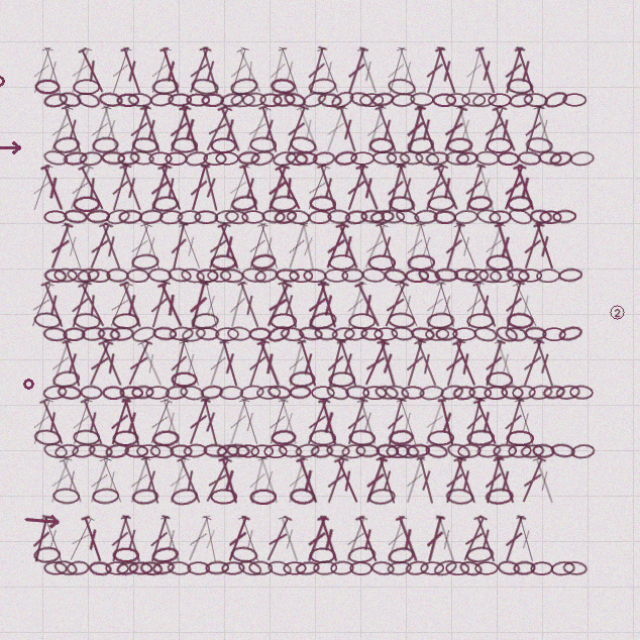chain: (230, 79, 260, 100), (288, 137, 318, 158), (308, 311, 338, 332), (329, 91, 356, 114), (191, 80, 221, 100), (386, 80, 416, 100), (405, 138, 434, 158), (171, 486, 200, 506), (152, 544, 181, 564), (386, 544, 415, 564), (301, 92, 328, 113), (540, 92, 567, 113), (505, 208, 532, 229), (431, 556, 458, 577), (308, 80, 337, 99), (54, 370, 83, 389), (347, 544, 376, 563), (464, 544, 493, 563), (266, 324, 292, 345), (77, 93, 104, 113), (393, 209, 420, 229), (132, 325, 159, 345), (444, 441, 471, 461), (237, 557, 264, 577), (55, 138, 83, 157), (231, 196, 259, 215), (250, 254, 278, 273), (36, 312, 64, 331), (36, 428, 64, 447), (231, 544, 259, 563), (444, 487, 473, 505), (282, 93, 308, 113), (415, 267, 441, 287), (492, 325, 518, 345), (133, 139, 161, 157), (523, 139, 551, 157), (153, 197, 181, 215), (387, 197, 415, 215), (75, 313, 103, 331), (192, 313, 220, 331), (153, 429, 181, 447), (133, 487, 161, 505), (367, 487, 395, 505), (348, 93, 374, 112), (45, 151, 71, 170), (250, 151, 276, 170), (107, 209, 133, 228), (555, 325, 581, 344), (45, 441, 71, 460), (55, 557, 81, 576), (425, 313, 454, 330), (483, 487, 512, 504), (153, 81, 181, 98), (504, 81, 532, 98), (270, 197, 298, 214), (426, 197, 454, 214), (133, 255, 161, 272), (504, 313, 532, 330), (465, 429, 493, 446), (60, 93, 85, 112), (325, 383, 350, 402), (438, 383, 463, 402), (45, 94, 71, 112), (220, 94, 246, 112), (470, 94, 496, 112), (506, 94, 532, 112), (272, 152, 298, 170), (413, 152, 439, 170), (68, 268, 94, 286), (181, 268, 207, 286), (254, 268, 280, 286), (182, 326, 208, 344), (471, 326, 497, 344), (180, 384, 206, 402), (373, 384, 399, 402), (383, 384, 409, 402), (56, 442, 82, 460), (267, 558, 293, 576), (270, 81, 297, 98), (94, 139, 121, 156), (250, 139, 277, 156), (309, 197, 336, 214), (465, 197, 492, 214), (387, 313, 414, 330), (289, 371, 316, 388), (75, 429, 102, 446), (309, 429, 336, 446), (348, 429, 375, 446), (387, 429, 414, 446), (55, 487, 82, 504), (94, 487, 121, 504), (289, 487, 316, 504), (36, 545, 63, 562), (185, 152, 210, 170), (546, 152, 571, 170), (382, 268, 407, 286), (502, 326, 527, 344), (423, 442, 448, 460), (117, 558, 142, 576), (457, 558, 482, 576), (367, 256, 395, 272), (406, 256, 434, 272), (465, 314, 493, 330), (504, 430, 532, 446), (505, 197, 531, 214), (474, 210, 500, 227), (168, 268, 194, 285), (271, 429, 297, 446), (73, 442, 99, 459), (106, 442, 132, 459), (75, 82, 102, 98), (172, 140, 199, 156), (211, 140, 238, 156), (445, 140, 472, 156), (484, 140, 511, 156), (75, 198, 102, 214), (211, 256, 238, 272), (328, 256, 355, 272), (484, 256, 511, 272), (114, 314, 141, 330), (270, 314, 297, 330), (348, 314, 375, 330), (172, 372, 199, 388), (328, 372, 355, 388), (484, 372, 511, 388), (114, 430, 141, 446), (426, 430, 453, 446), (211, 488, 238, 504), (250, 488, 277, 504), (114, 546, 141, 562), (309, 546, 336, 562), (100, 94, 125, 111), (151, 94, 176, 111), (370, 94, 395, 111), (131, 152, 156, 169), (333, 152, 358, 169), (65, 210, 90, 227), (140, 210, 165, 227), (273, 210, 298, 227), (78, 268, 103, 285), (242, 268, 267, 285), (361, 268, 386, 285), (298, 326, 323, 343), (343, 326, 368, 343), (389, 326, 414, 343), (45, 384, 70, 401), (59, 384, 84, 401), (240, 384, 265, 401), (267, 384, 292, 401), (526, 384, 551, 401), (553, 384, 578, 401), (90, 442, 115, 459), (278, 442, 303, 459), (295, 442, 320, 459), (475, 442, 500, 459), (548, 442, 573, 459), (37, 82, 63, 98), (368, 140, 394, 156), (527, 210, 551, 227), (504, 268, 528, 285), (166, 384, 190, 401), (201, 384, 225, 401), (540, 384, 564, 401), (153, 558, 177, 575), (404, 558, 428, 575), (495, 558, 519, 575), (129, 95, 154, 111), (231, 95, 256, 111), (317, 95, 342, 111), (390, 95, 415, 111), (444, 95, 469, 111), (521, 95, 546, 111), (65, 153, 90, 169), (385, 153, 410, 169), (424, 153, 449, 169), (515, 153, 540, 169), (567, 153, 592, 169), (160, 211, 185, 227), (178, 211, 203, 227), (215, 211, 240, 227), (225, 211, 250, 227), (286, 211, 311, 227), (369, 211, 394, 227), (452, 211, 477, 227), (220, 269, 245, 285), (275, 269, 300, 285), (463, 269, 488, 285), (476, 269, 501, 285), (45, 327, 70, 343), (280, 327, 305, 343), (409, 327, 434, 343), (418, 385, 443, 401), (151, 443, 176, 459), (341, 443, 366, 459), (394, 443, 419, 459), (518, 443, 543, 459), (568, 443, 593, 459), (168, 559, 193, 575), (295, 559, 320, 575), (386, 559, 411, 575), (548, 559, 573, 575), (560, 559, 585, 575), (81, 153, 105, 169), (285, 153, 309, 169), (312, 153, 336, 169), (454, 153, 478, 169), (344, 211, 368, 227), (46, 269, 70, 285), (99, 327, 123, 343), (331, 327, 355, 343), (451, 385, 475, 401), (217, 443, 241, 459), (310, 443, 334, 459), (90, 559, 114, 575), (141, 559, 165, 575), (370, 559, 394, 575), (398, 153, 423, 168), (149, 269, 174, 284), (452, 269, 477, 284), (83, 327, 108, 342), (111, 327, 136, 342), (170, 327, 195, 342), (196, 327, 221, 342), (184, 443, 209, 458), (226, 443, 251, 458), (243, 95, 267, 110), (409, 95, 433, 110), (460, 95, 484, 110), (103, 153, 127, 168), (372, 153, 396, 168), (444, 153, 468, 168), (474, 153, 498, 168), (536, 153, 560, 168), (88, 211, 112, 226), (120, 211, 144, 226), (262, 211, 286, 226), (360, 211, 384, 226), (380, 211, 404, 226), (413, 211, 437, 226), (550, 211, 574, 226), (56, 269, 80, 284), (433, 269, 457, 284), (556, 269, 580, 284), (154, 327, 178, 342), (228, 327, 252, 342), (314, 327, 338, 342), (345, 385, 369, 400), (510, 385, 534, 400), (567, 385, 591, 400), (204, 443, 228, 458), (326, 443, 350, 458), (355, 443, 379, 458), (405, 443, 429, 458), (456, 443, 480, 458), (491, 443, 515, 458), (506, 443, 530, 458), (68, 559, 92, 574), (206, 559, 230, 574), (249, 559, 273, 574), (313, 559, 337, 574), (330, 559, 354, 574), (273, 95, 296, 110), (119, 153, 142, 168), (238, 153, 261, 168), (327, 211, 350, 226), (108, 269, 131, 284), (341, 269, 364, 284), (434, 327, 457, 342), (522, 327, 545, 342), (82, 385, 105, 400), (133, 385, 156, 400), (289, 385, 312, 400), (499, 385, 522, 400), (375, 443, 398, 458), (530, 443, 553, 458), (511, 559, 534, 574), (169, 96, 193, 110), (187, 96, 211, 110), (359, 96, 383, 110), (431, 96, 455, 110), (486, 96, 510, 110), (560, 96, 584, 110), (150, 154, 174, 168), (204, 154, 228, 168), (216, 154, 240, 168), (350, 154, 374, 168), (46, 212, 70, 226), (195, 212, 219, 226), (242, 212, 266, 226), (308, 212, 332, 226), (89, 270, 113, 284), (208, 270, 232, 284), (289, 270, 313, 284), (303, 270, 327, 284), (324, 270, 348, 284), (404, 270, 428, 284), (488, 270, 512, 284), (516, 270, 540, 284), (534, 270, 558, 284), (216, 328, 240, 342), (373, 328, 397, 342), (424, 328, 448, 342), (451, 328, 475, 342), (540, 328, 564, 342), (121, 386, 145, 400), (147, 386, 171, 400), (220, 386, 244, 400), (257, 386, 281, 400), (311, 386, 335, 400), (362, 386, 386, 400), (400, 386, 424, 400), (482, 386, 506, 400), (126, 444, 150, 458), (138, 444, 162, 458), (264, 444, 288, 458), (385, 444, 409, 458), (46, 560, 70, 574), (107, 560, 131, 574), (130, 560, 154, 574), (222, 560, 246, 574), (283, 560, 307, 574), (419, 560, 443, 574), (444, 560, 468, 574), (473, 560, 497, 574), (118, 96, 141, 110), (202, 96, 225, 110), (260, 96, 283, 110), (166, 154, 189, 168), (295, 154, 318, 168), (495, 154, 518, 168), (432, 212, 455, 226), (487, 212, 510, 226), (537, 212, 560, 226), (128, 270, 151, 284), (197, 270, 220, 284), (65, 328, 88, 342), (249, 328, 272, 342), (360, 328, 383, 342), (104, 386, 127, 400), (467, 386, 490, 400), (171, 444, 194, 458), (237, 444, 260, 458), (251, 444, 274, 458), (188, 560, 211, 574), (349, 560, 372, 574), (528, 560, 551, 574)
double: (77, 281, 113, 331), (77, 49, 112, 99), (201, 107, 236, 157), (77, 165, 112, 215), (272, 165, 307, 215), (201, 455, 236, 505), (65, 513, 100, 563), (234, 49, 268, 99), (241, 107, 275, 157), (429, 165, 463, 215), (156, 281, 190, 331), (261, 281, 295, 331), (351, 281, 385, 331), (507, 281, 541, 331), (136, 339, 170, 389), (358, 339, 392, 389), (261, 513, 295, 563), (436, 107, 469, 157), (487, 107, 520, 157), (66, 165, 99, 215), (156, 165, 189, 215), (358, 223, 391, 273), (27, 281, 60, 331), (105, 281, 138, 331), (378, 281, 411, 331), (468, 281, 501, 331), (85, 339, 118, 389), (97, 339, 130, 389), (124, 339, 157, 389), (448, 339, 481, 389), (39, 397, 72, 447), (58, 455, 91, 505), (175, 455, 208, 505), (331, 455, 364, 505), (514, 455, 547, 505), (183, 513, 216, 563), (456, 513, 489, 563), (184, 49, 216, 99), (313, 49, 345, 99), (47, 107, 79, 157), (215, 107, 247, 157), (293, 107, 325, 157), (476, 107, 508, 157), (40, 165, 72, 215), (301, 165, 333, 215), (352, 165, 384, 215), (418, 165, 450, 215), (496, 165, 528, 215), (86, 223, 118, 273), (125, 223, 157, 273), (176, 223, 208, 273), (203, 223, 235, 273), (320, 223, 352, 273), (332, 223, 364, 273), (449, 223, 481, 273), (40, 281, 72, 331), (391, 281, 423, 331), (254, 339, 286, 389), (410, 339, 442, 389), (79, 397, 111, 447), (145, 397, 177, 447), (301, 397, 333, 447), (469, 397, 501, 447), (98, 455, 130, 505), (449, 455, 481, 505), (391, 513, 423, 563), (67, 49, 98, 99), (281, 107, 312, 157), (320, 107, 351, 157), (371, 107, 402, 157), (410, 107, 441, 157), (118, 165, 149, 215), (223, 165, 254, 215), (262, 165, 293, 215), (508, 165, 539, 215), (47, 223, 78, 273), (98, 223, 129, 273), (215, 223, 246, 273), (254, 223, 285, 273), (118, 281, 149, 331), (235, 281, 266, 331), (515, 339, 546, 389), (184, 397, 215, 447), (418, 397, 449, 447), (47, 455, 78, 505), (86, 455, 117, 505), (293, 455, 324, 505), (359, 455, 390, 505), (488, 455, 519, 505), (527, 455, 558, 505), (40, 513, 71, 563), (223, 513, 254, 563), (235, 513, 266, 563), (301, 513, 332, 563), (340, 513, 371, 563), (352, 513, 383, 563), (469, 513, 500, 563), (29, 49, 59, 99), (107, 49, 137, 99), (119, 49, 149, 99), (146, 49, 176, 99), (275, 49, 305, 99), (341, 49, 371, 99), (353, 49, 383, 99), (392, 49, 422, 99), (431, 49, 461, 99), (470, 49, 500, 99), (509, 49, 539, 99), (60, 107, 90, 157), (87, 107, 117, 157), (126, 107, 156, 157), (138, 107, 168, 157), (165, 107, 195, 157), (29, 165, 59, 215), (146, 165, 176, 215), (341, 165, 371, 215), (60, 223, 90, 273), (138, 223, 168, 273), (282, 223, 312, 273), (477, 223, 507, 273), (528, 223, 558, 273), (302, 281, 332, 331), (48, 339, 78, 389), (177, 339, 207, 389), (204, 339, 234, 389), (243, 339, 273, 389), (333, 339, 363, 389), (477, 339, 507, 389), (489, 339, 519, 389), (528, 339, 558, 389), (29, 397, 59, 447), (68, 397, 98, 447), (158, 397, 188, 447), (224, 397, 254, 447), (341, 397, 371, 447), (392, 397, 422, 447), (126, 455, 156, 505), (255, 455, 285, 505), (282, 455, 312, 505), (321, 455, 351, 505), (438, 455, 468, 505), (80, 513, 110, 563), (119, 513, 149, 563), (158, 513, 188, 563), (275, 513, 305, 563), (314, 513, 344, 563), (380, 513, 410, 563), (497, 513, 527, 563), (41, 49, 70, 99), (158, 49, 187, 99), (197, 49, 226, 99), (419, 49, 448, 99), (497, 49, 526, 99), (177, 107, 206, 157), (333, 107, 362, 157), (528, 107, 557, 157), (314, 165, 343, 215), (392, 165, 421, 215), (458, 165, 487, 215), (243, 223, 272, 273), (372, 223, 401, 273), (438, 223, 467, 273), (489, 223, 518, 273), (516, 223, 545, 273), (68, 281, 97, 331), (275, 281, 304, 331), (314, 281, 343, 331), (341, 281, 370, 331), (419, 281, 448, 331), (431, 281, 460, 331), (294, 339, 323, 389), (107, 397, 136, 447), (236, 397, 265, 447), (263, 397, 292, 447), (275, 397, 304, 447), (353, 397, 382, 447), (497, 397, 526, 447), (509, 397, 538, 447), (165, 455, 194, 505), (216, 455, 245, 505), (372, 455, 401, 505), (399, 455, 428, 505), (107, 513, 136, 563), (146, 513, 175, 563), (431, 513, 460, 563), (225, 49, 253, 99), (381, 49, 409, 99), (256, 107, 284, 157), (361, 107, 389, 157), (400, 107, 428, 157), (517, 107, 545, 157), (108, 165, 136, 215), (186, 165, 214, 215), (237, 165, 265, 215), (471, 165, 499, 215), (400, 223, 428, 273), (147, 281, 175, 331), (498, 281, 526, 331), (61, 339, 89, 389), (217, 339, 245, 389), (373, 339, 401, 389), (400, 339, 428, 389), (439, 339, 467, 389), (120, 397, 148, 447), (315, 397, 343, 447), (139, 455, 167, 505), (510, 513, 538, 563), (303, 49, 330, 99), (459, 49, 486, 99), (100, 107, 127, 157), (451, 107, 478, 157), (381, 165, 408, 215), (412, 223, 439, 273), (186, 281, 213, 331), (225, 281, 252, 331), (459, 281, 486, 331), (283, 339, 310, 389), (322, 339, 349, 389), (198, 397, 225, 447), (381, 397, 408, 447), (412, 455, 439, 505), (478, 455, 505, 505), (420, 513, 447, 563), (265, 49, 291, 99), (199, 165, 225, 215), (167, 223, 193, 273), (199, 281, 225, 331), (167, 339, 193, 389), (433, 397, 459, 447), (460, 397, 486, 447), (245, 455, 271, 505), (31, 513, 57, 563), (296, 223, 321, 273), (199, 513, 224, 563)
noise: (26, 511, 64, 528), (0, 143, 26, 157), (605, 304, 624, 323), (24, 377, 38, 391), (0, 77, 9, 91)
